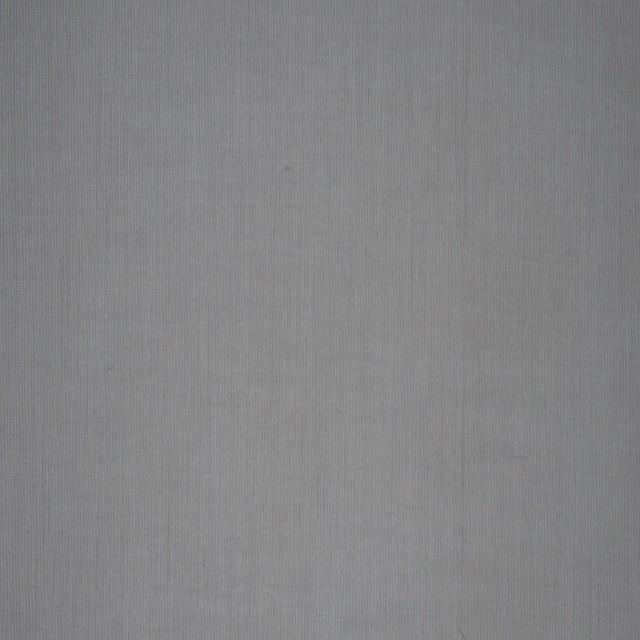dirty: (282, 162, 296, 175)
